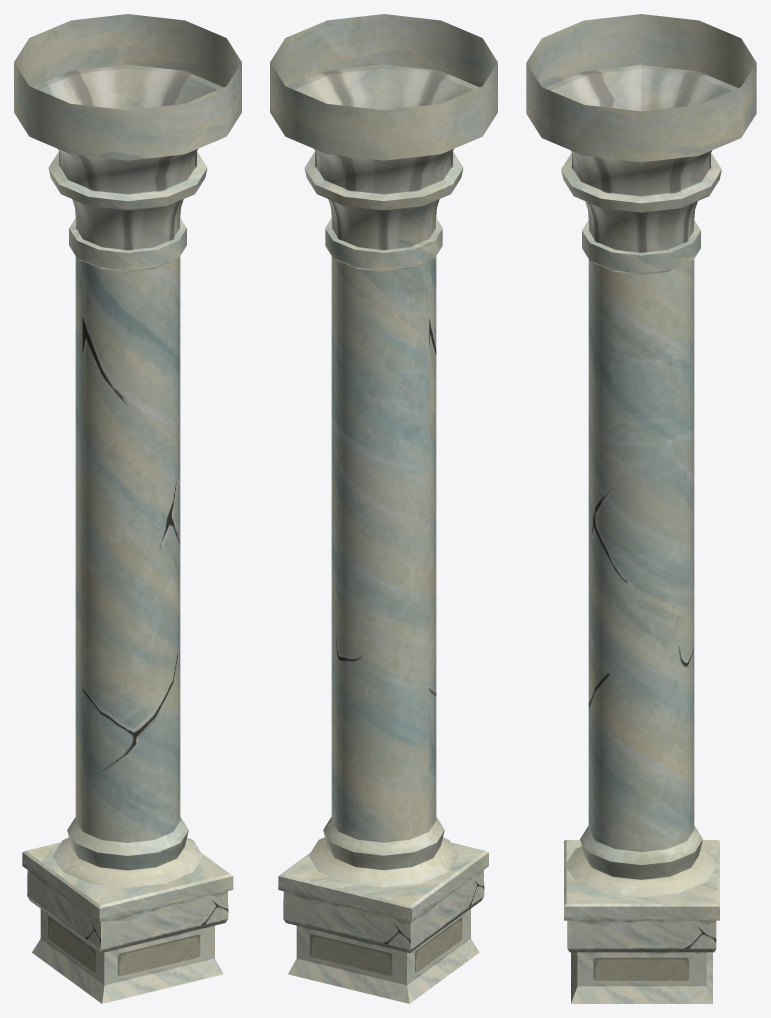
Rendered from pillar 1.fbx.
3 views of the same model, side by side, from view 1: azimuth 30°, elevation 25°; view 2: azimuth 150°, elevation 25°; view 3: azimuth 270°, elevation 25° (orthographic).
Parts seen in each view (by area): view 1: pillar.001; view 2: pillar.001; view 3: pillar.001.
Boxes of the visible parts, x1,y1,x2,y2 form: pillar.001: (14, 14, 241, 1003); pillar.001: (270, 14, 497, 1003); pillar.001: (526, 14, 756, 1003).
Size of the model in its own units: 190 by 829 by 190.
